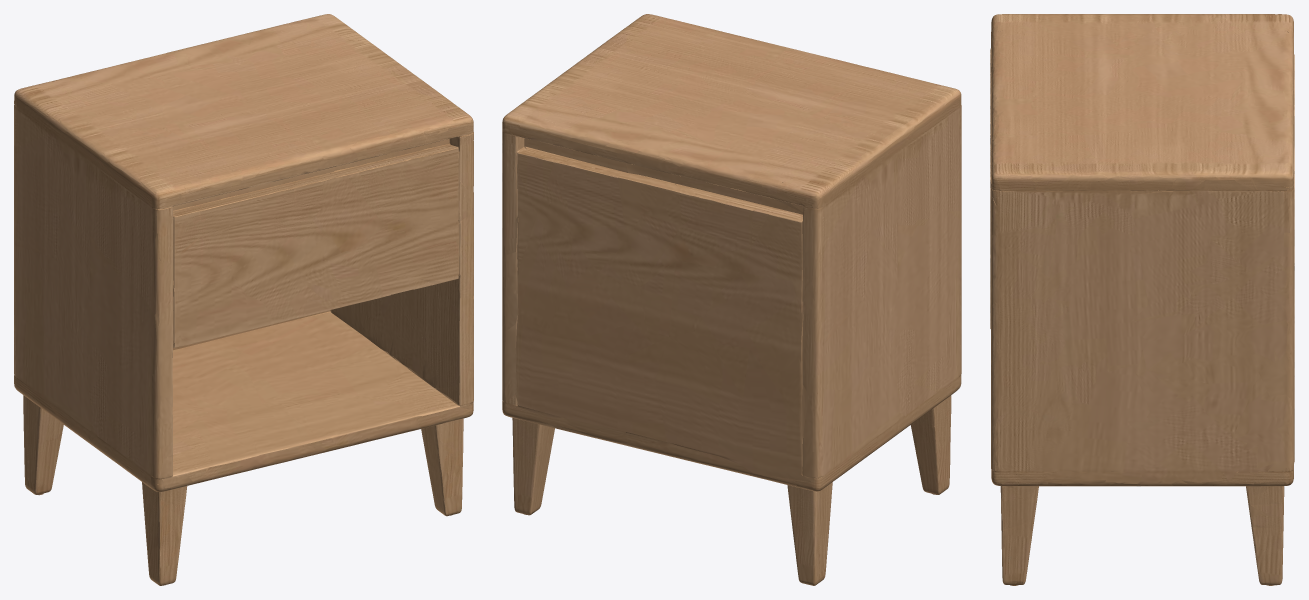
3 renders of one model, left to right at view 1: azimuth 30°, elevation 25°; view 2: azimuth 150°, elevation 25°; view 3: azimuth 270°, elevation 25°, orthographic. The views are drawn at different scales.
Visible parts, largest first — view 1: Mesh_0; view 2: Mesh_0; view 3: Mesh_0.
Part boxes in pixels (box(x1,y1,x2,y2)): Mesh_0: box(14, 14, 473, 585); Mesh_0: box(502, 14, 961, 585); Mesh_0: box(990, 14, 1294, 585).
Size of the model in its own units: 0.4625 by 0.5545 by 0.3655.
Materials: 1 (1 with a texture image).
